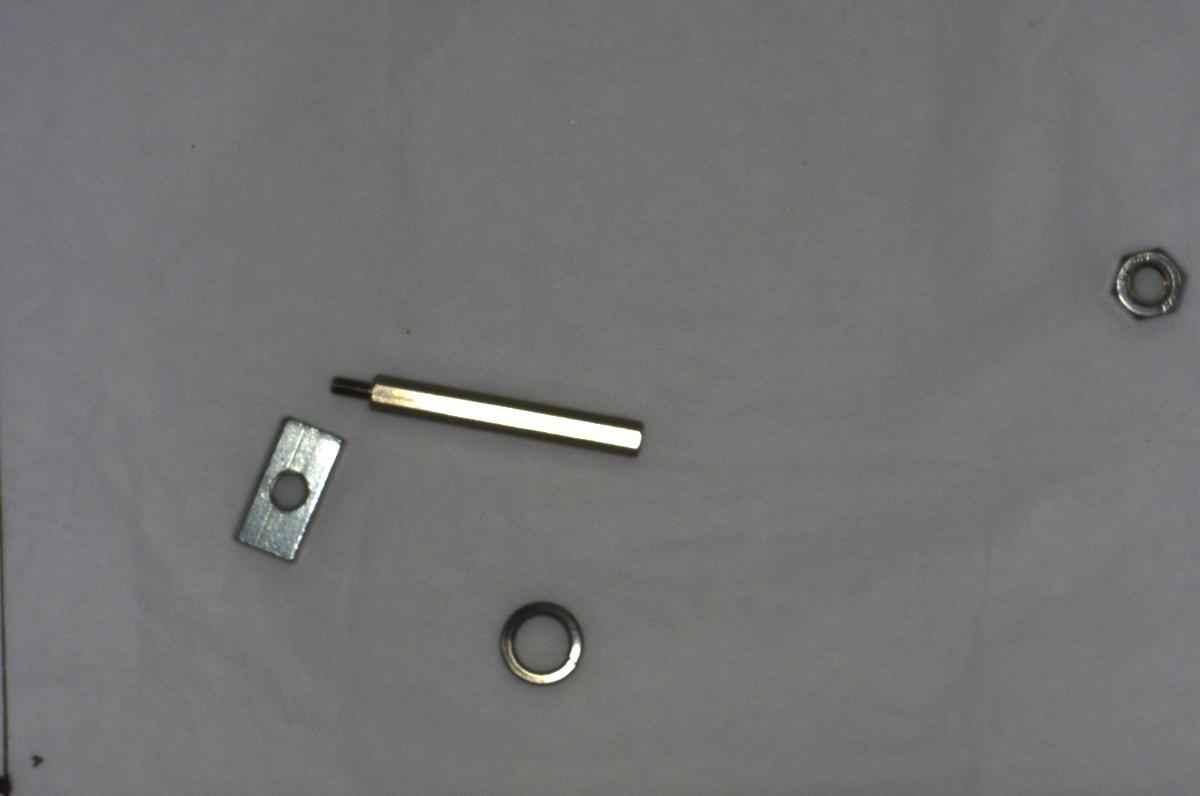Hexagon nut: (1106, 239, 1193, 327)
Hexagonal steel column: (315, 368, 652, 456)
Rectangular nut: (225, 410, 346, 561)
Spring washer: (493, 594, 588, 690)
